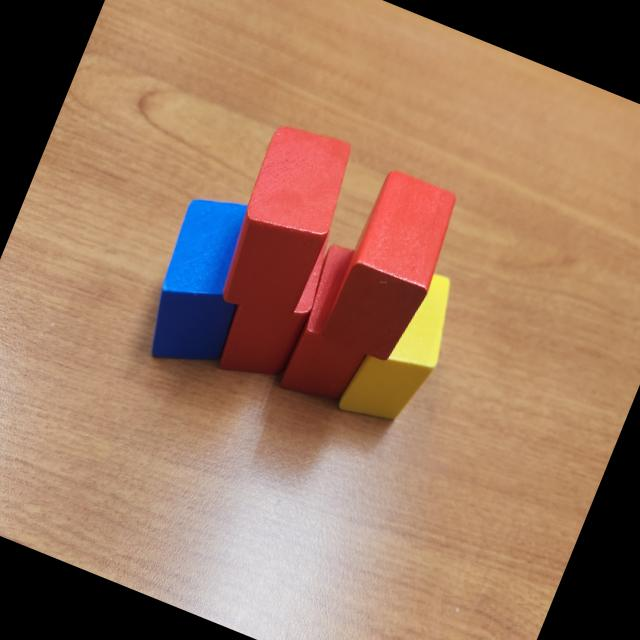blue: (132, 182, 282, 380)
red: (206, 114, 362, 327), (318, 165, 466, 366), (212, 208, 342, 392), (273, 241, 400, 412)
yellow: (329, 252, 469, 440)
